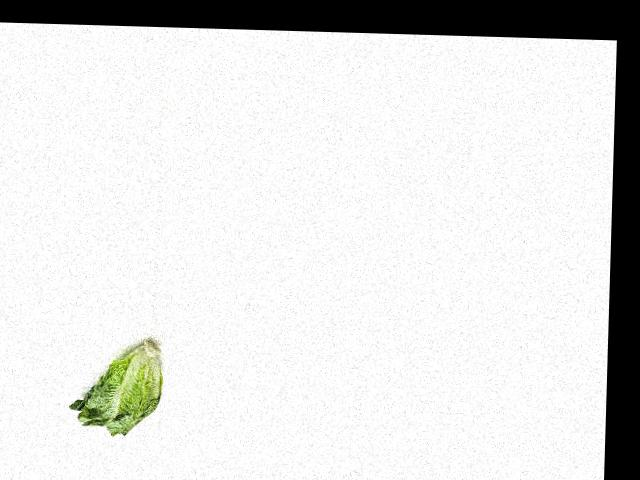lettuce: (69, 341, 166, 441)
